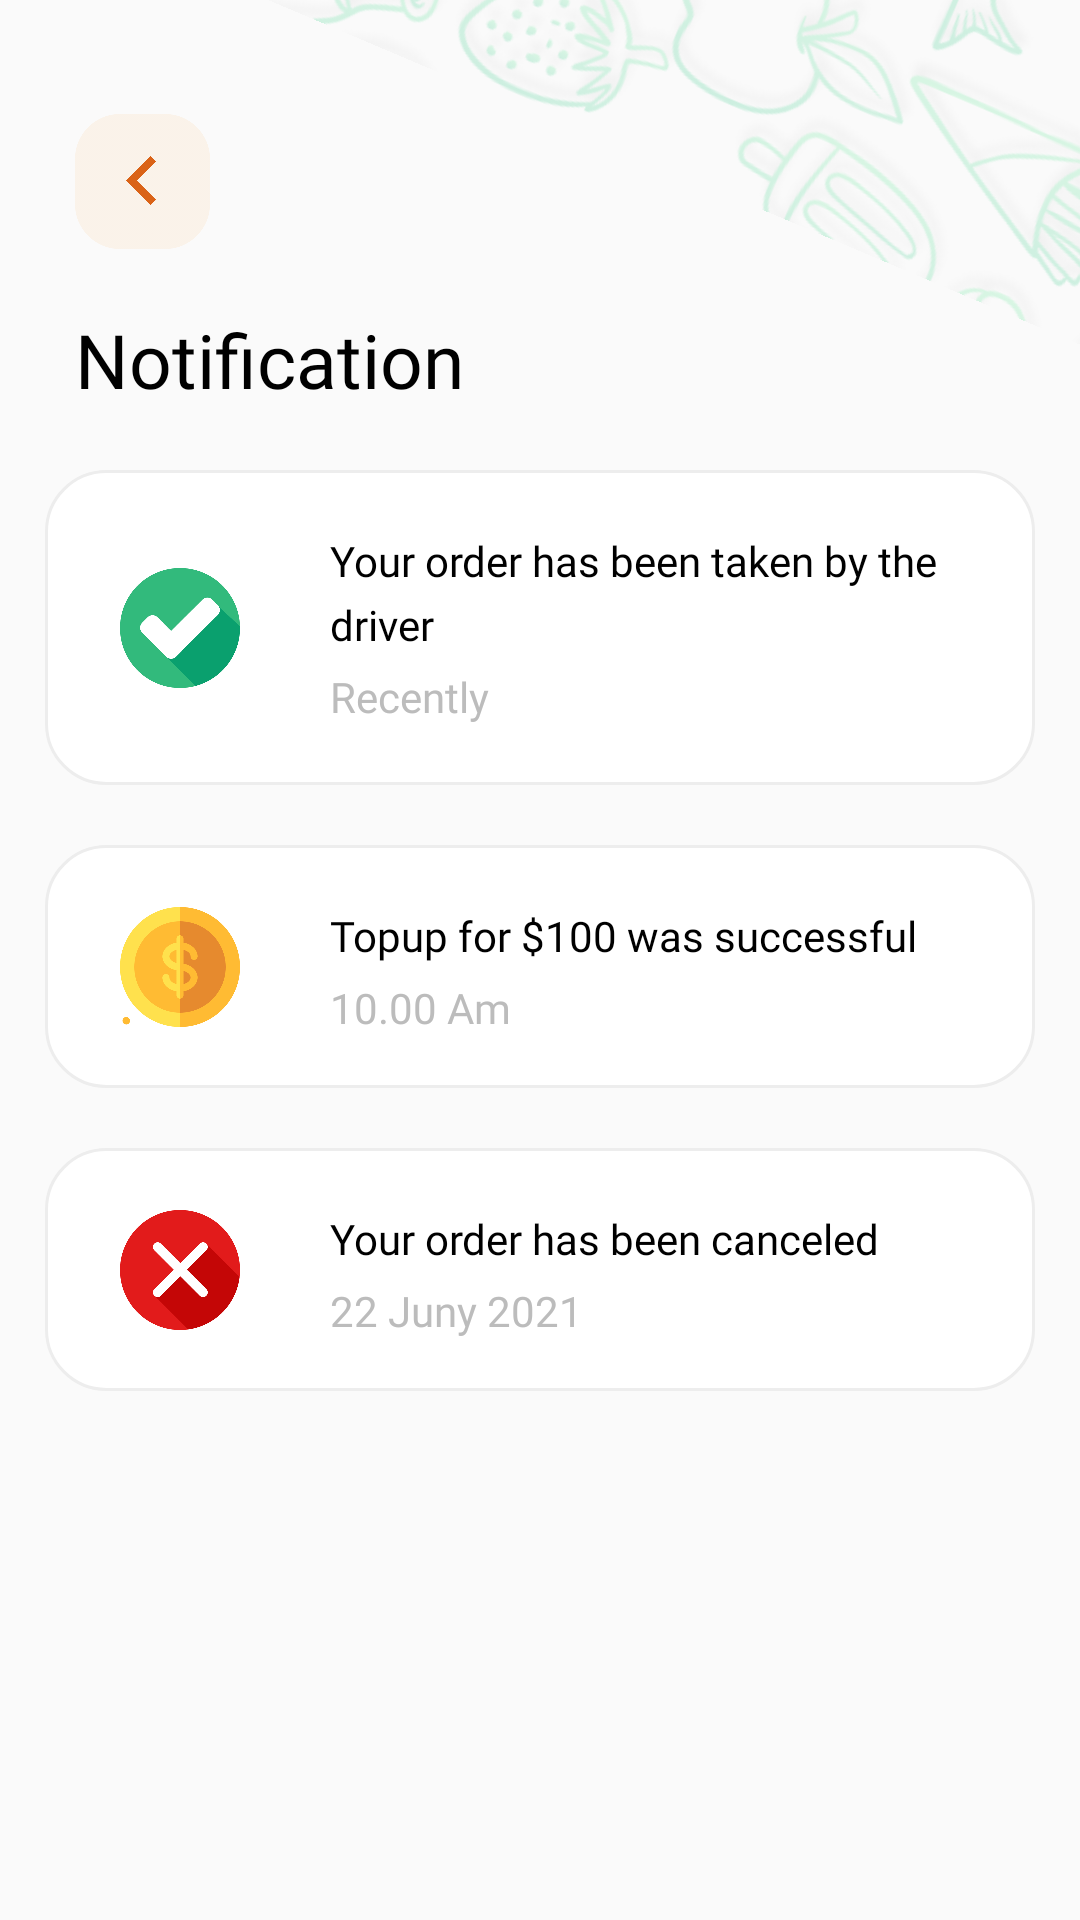

Icon click points for this 1080 × 1920 phone screenshot, format (x=x, y=y):
backicon: (x=142, y=181)
icchecked: (x=180, y=628)
moneyic: (x=180, y=967)
xic: (x=180, y=1270)
